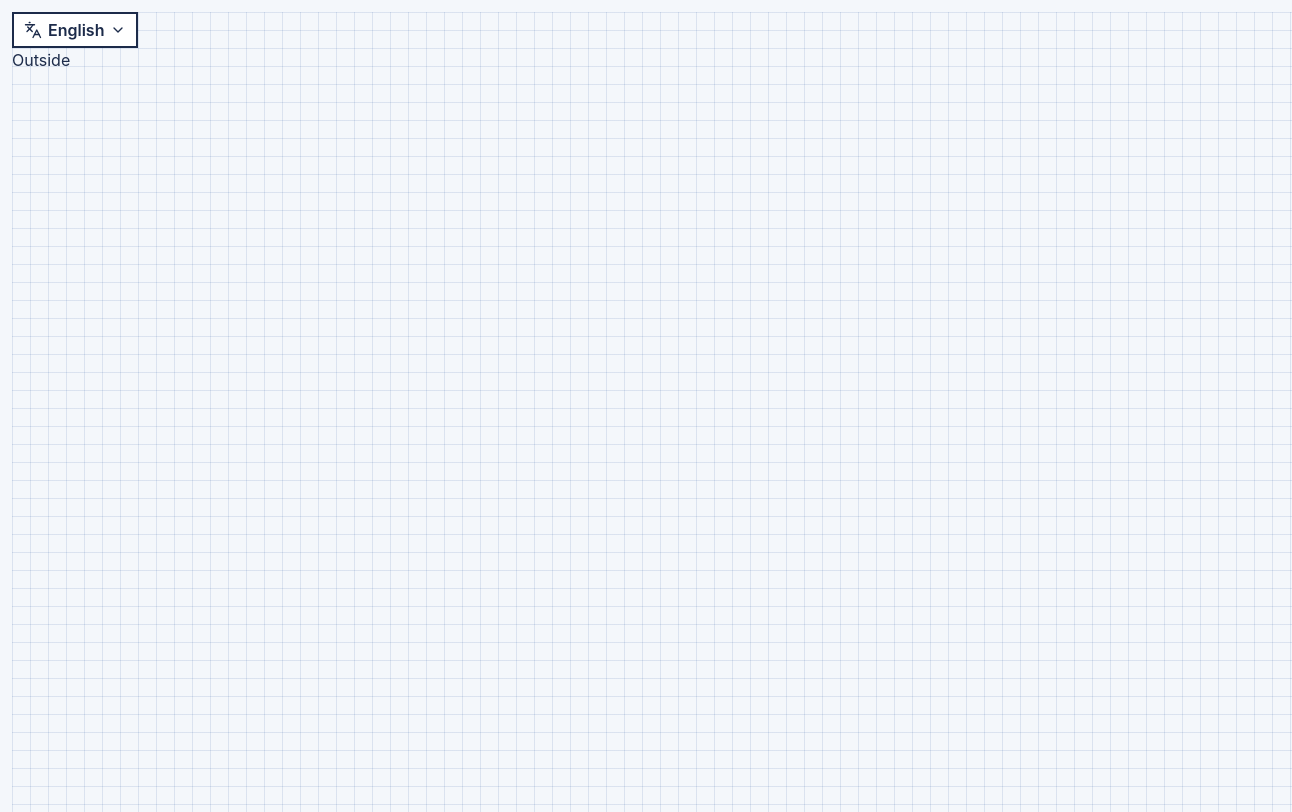
Test case: LanguageSwitcher (spec 4.2) › closes on a click outside it
The image size is (1292, 812).
Click the button with aria-label "Language: English". click: (75, 30)
box: [12,12,138,48]
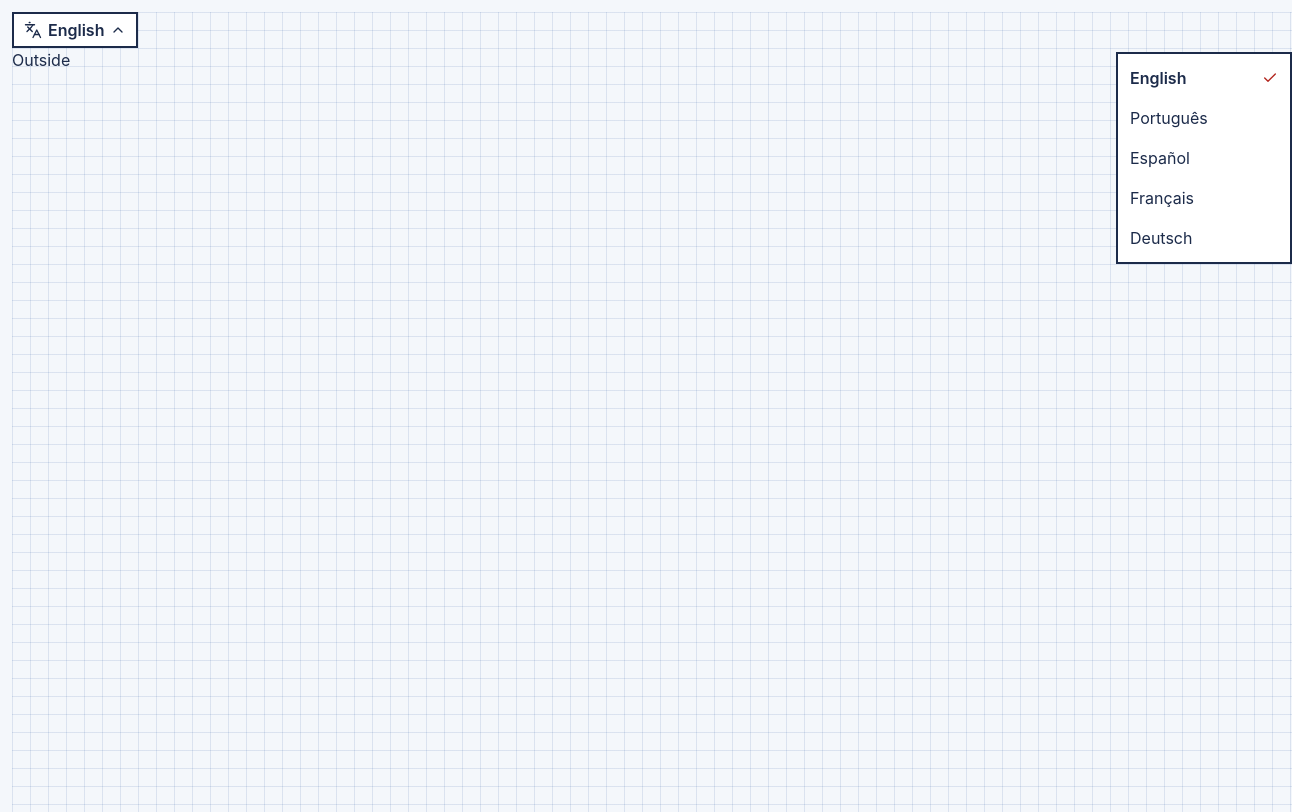
Press the mouse on the text "Outside" at (41, 60), box [12,50,70,70]
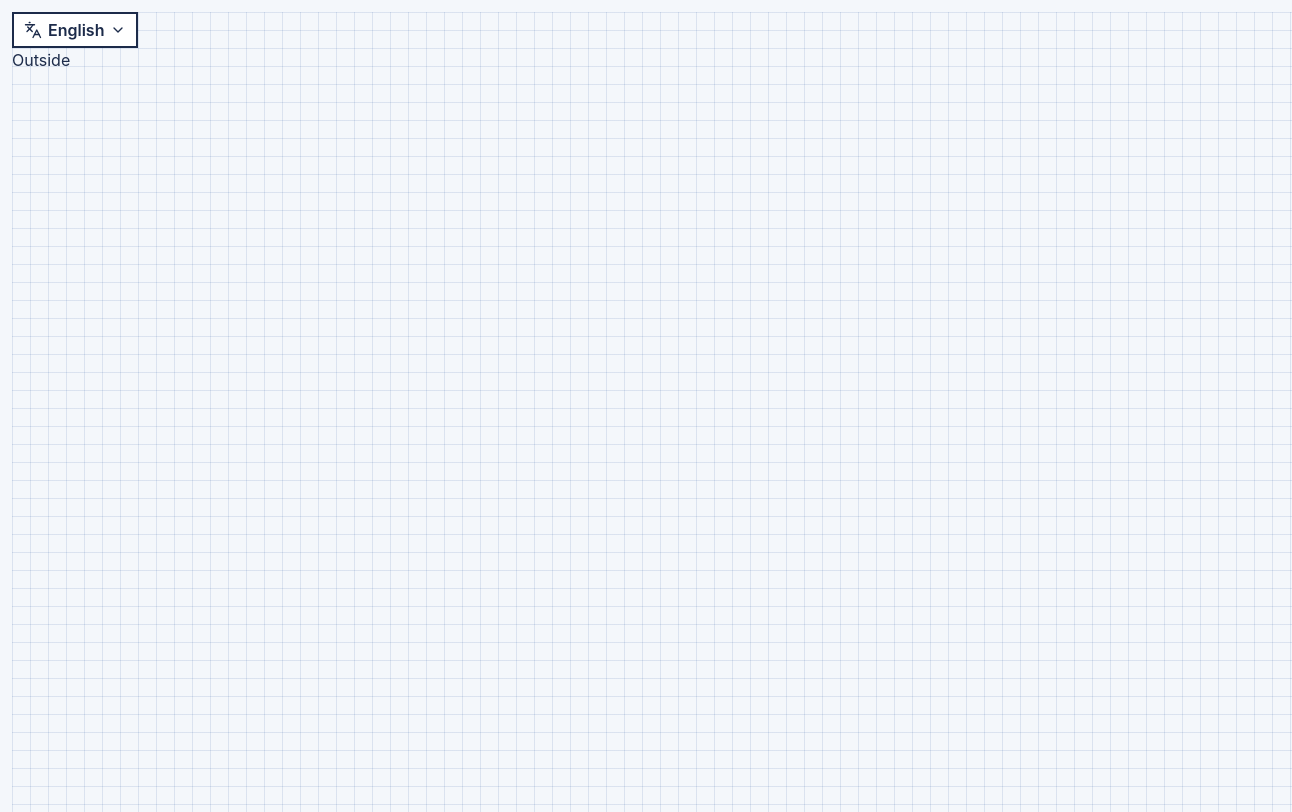
Expected: the button with aria-label "Language: English" is collapsed, [12,12,138,48]
